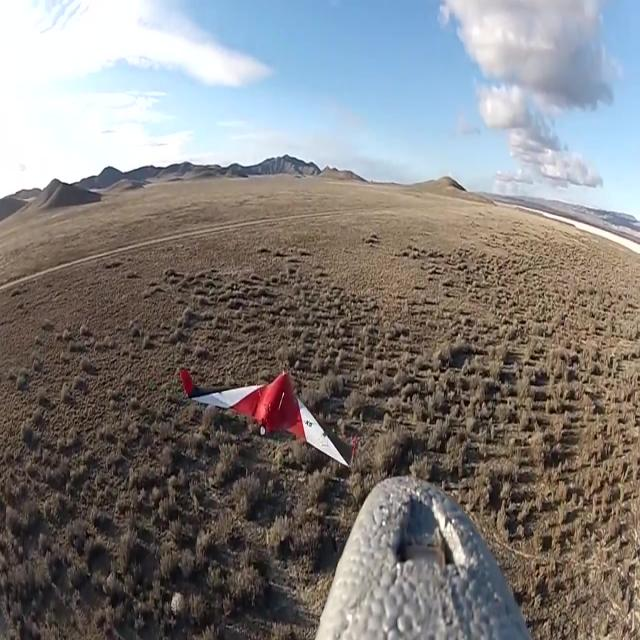iha: (170, 394, 354, 438)
